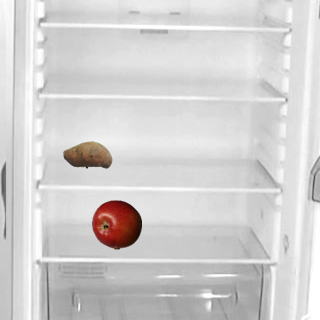Apple Braeburn: (91, 199, 141, 249)
Potato Sweet: (62, 129, 112, 179)
